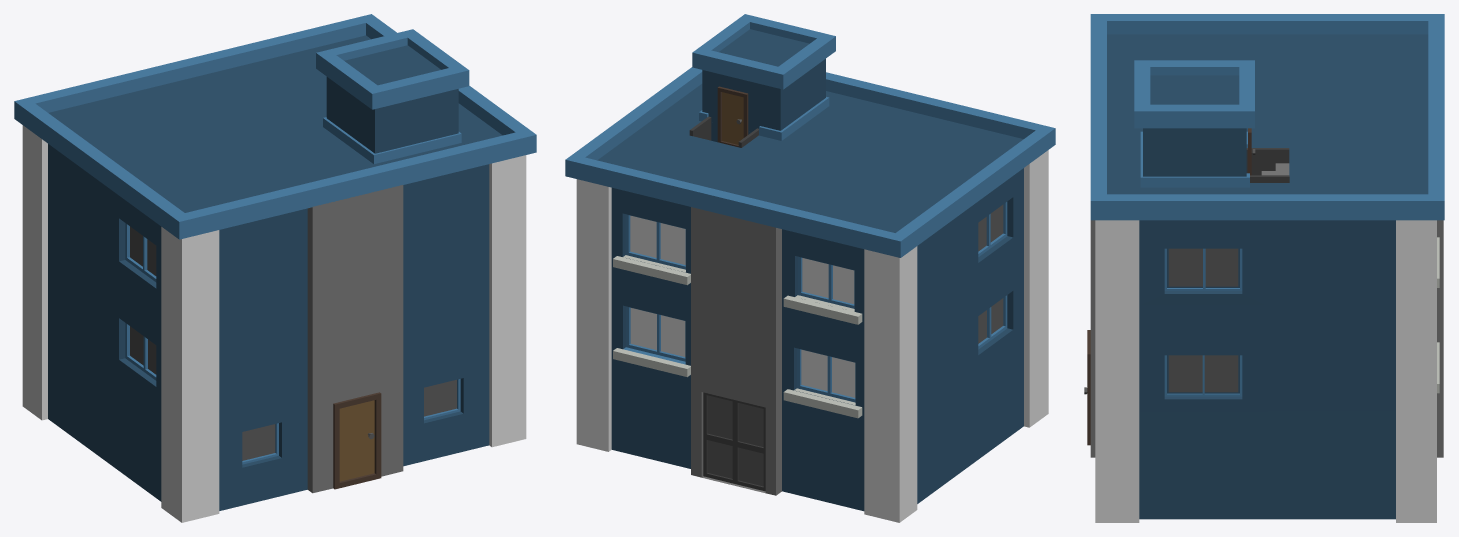
Rendered from Building D Blue.fbx.
3 renders of one model, left to right at view 1: azimuth 30°, elevation 25°; view 2: azimuth 150°, elevation 25°; view 3: azimuth 270°, elevation 25°, orthographic. The views are drawn at different scales.
Visible parts, largest first — view 1: Building D Blue.001; view 2: Building D Blue.001; view 3: Building D Blue.001.
Part boxes in pixels (x1,y1,x2,y2): Building D Blue.001: [14, 14, 536, 522]; Building D Blue.001: [565, 14, 1055, 522]; Building D Blue.001: [1084, 14, 1444, 522].
Size of the model in its own units: 1121 by 912 by 1094.
